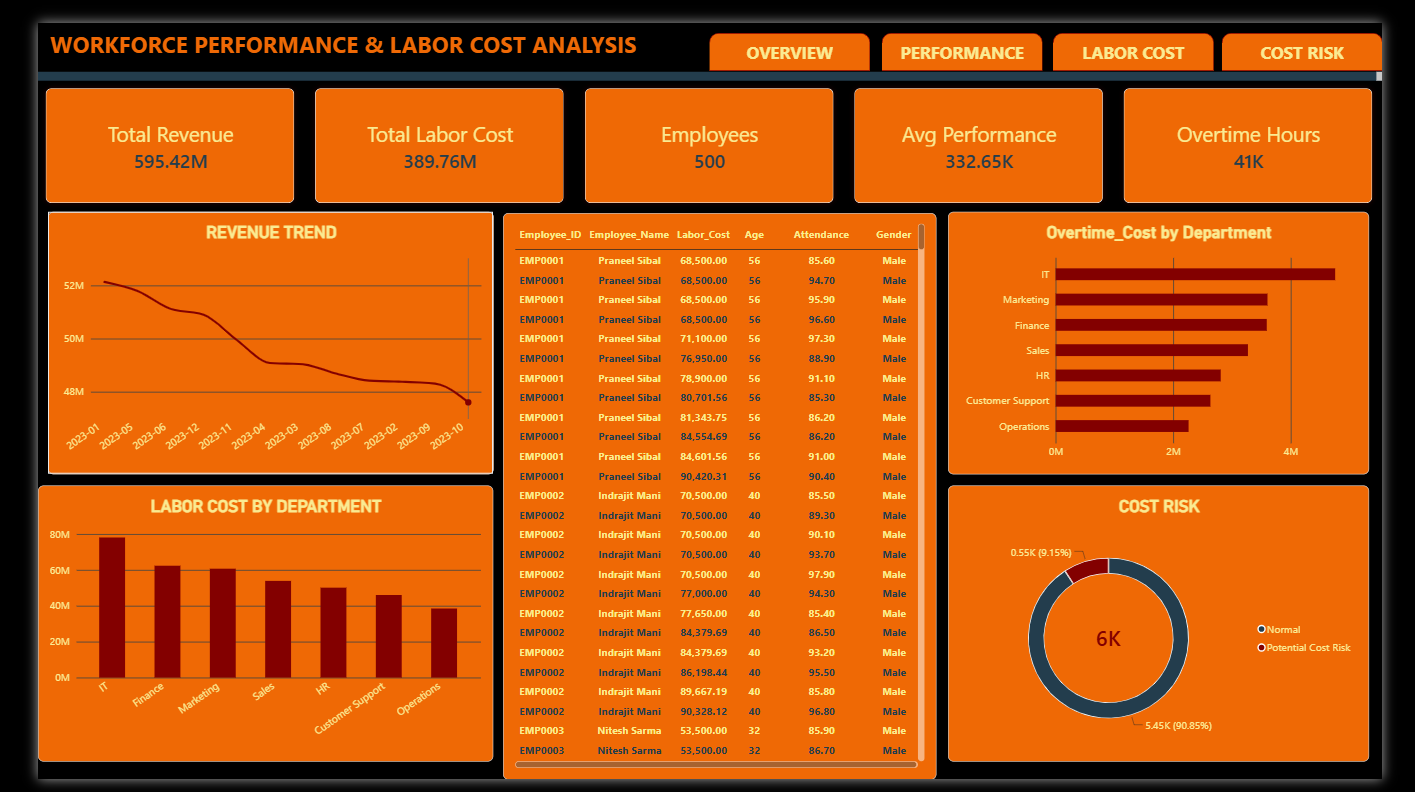

The page's visual inventory and layout, read from the dashboard file:
{"tool":"powerbi","page":{"name":"OVERVIEW","canvas":[1920,1080],"ordinal":0},"visuals":[{"type":"textbox","box":[0,0,1920.1,68.8],"z":0},{"type":"textbox","box":[0,68.8,1920.1,12.7],"z":1000},{"type":"actionButton","box":[959.1,14.5,229.8,54.3],"z":2000},{"type":"actionButton","box":[1205.2,14.5,229.8,54.3],"z":3000},{"type":"actionButton","box":[1449.5,14.5,229.8,54.3],"z":4000},{"type":"actionButton","box":[1690.2,14.5,229.8,54.3],"z":5000},{"type":"cardVisual","fields":{"Data":["Sum(workforce_analytics workforce_analysis_view.Sales_Revenue)","Sum(workforce_analytics workforce_analysis_view.Total_Labor_Cost)","Count(workforce_analytics workforce_analysis_view.Employee_ID)","Sum(workforce_analytics workforce_analysis_view.Performance_Score)","Sum(workforce_analytics workforce_analysis_view.Overtime_Hours)"]},"box":[0,81.4,1920.1,186.4],"z":6000},{"type":"lineChart","title":"REVENUE TREND","fields":{"Category":["workforce_analytics workforce_analysis_view.Month"],"Y":["Sum(workforce_analytics workforce_analysis_view.Sales_Revenue)"]},"box":[13.5,269.2,636.5,375],"z":7000},{"type":"clusteredBarChart","title":"Overtime_Cost by Department","fields":{"Category":["workforce_analytics workforce_analysis_view.Department"],"Y":["Sum(workforce_analytics workforce_analysis_view.Overtime_Cost)"]},"box":[1300,269.2,601.9,375],"z":8000},{"type":"tableEx","fields":{"Values":["workforce_analytics workforce_analysis_view.Employee_ID","workforce_analytics workforce_analysis_view.Employee_Name","workforce_analytics workforce_analysis_view.Total_Labor_Cost","workforce_analytics workforce_analysis_view.Age","workforce_analytics workforce_analysis_view.Attendance_Percent","workforce_analytics workforce_analysis_view.Gender"]},"box":[663.5,271.2,619.2,809.6],"z":9000},{"type":"donutChart","title":"COST RISK","fields":{"Category":["workforce_analytics workforce_analysis_view.Cost_Risk"],"Y":["CountNonNull(workforce_analytics workforce_analysis_view.Employee_ID)"]},"box":[1300,661.5,601.9,394.2],"z":10000},{"type":"columnChart","title":"LABOR COST BY DEPARTMENT ","fields":{"Category":["workforce_analytics workforce_analysis_view.Department"],"Y":["Sum(workforce_analytics workforce_analysis_view.Total_Labor_Cost)"]},"box":[0,661.5,650,394.2],"z":11000}]}

Visuals, with their boxes in screenshot pixels (x1, y1, x2, y2), scaled from the page's 1920x1080 canvas onto the 1415x792 screenshot:
textbox: BBox(0, 0, 1414, 50)
textbox: BBox(0, 50, 1414, 60)
actionButton: BBox(707, 11, 876, 50)
actionButton: BBox(888, 11, 1058, 50)
actionButton: BBox(1068, 11, 1238, 50)
actionButton: BBox(1246, 11, 1414, 50)
cardVisual - Sum(workforce_analytics workforce_analysis_view.Sales_Revenue) x Sum(workforce_analytics workforce_analysis_view.Total_Labor_Cost): BBox(0, 60, 1414, 196)
"REVENUE TREND" lineChart: BBox(10, 197, 479, 472)
"Overtime_Cost by Department" clusteredBarChart: BBox(958, 197, 1402, 472)
tableEx - workforce_analytics workforce_analysis_view.Employee_ID x workforce_analytics workforce_analysis_view.Employee_Name: BBox(489, 199, 945, 791)
"COST RISK" donutChart: BBox(958, 485, 1402, 774)
"LABOR COST BY DEPARTMENT " columnChart: BBox(0, 485, 479, 774)
